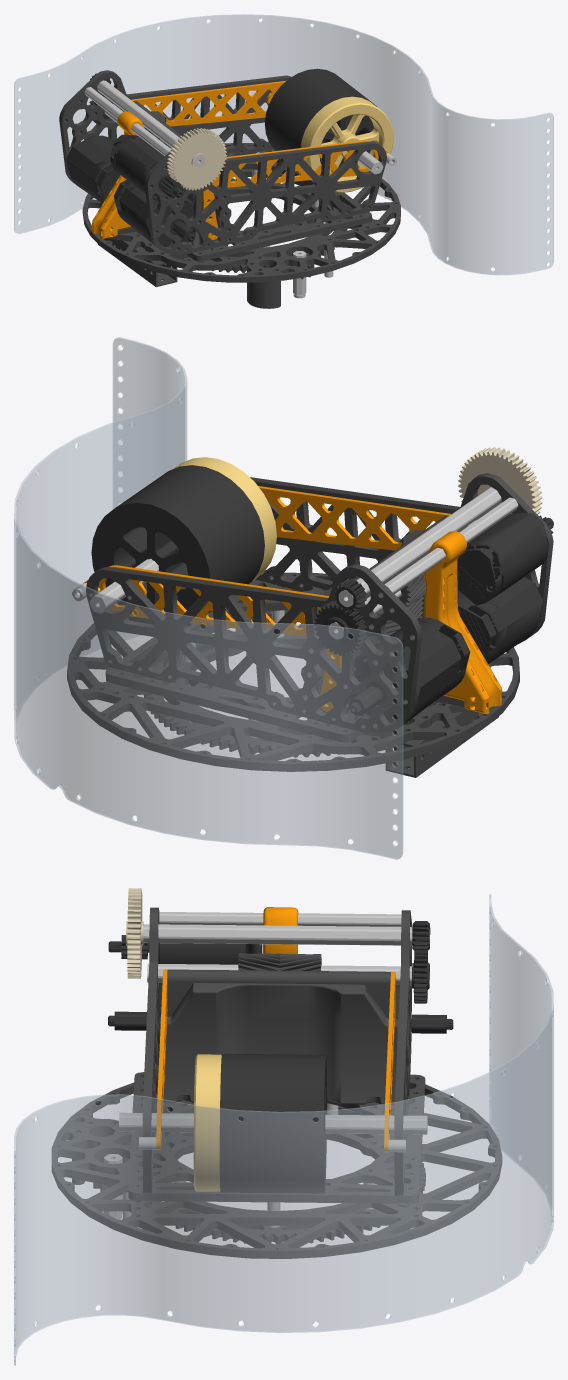
Rendered from 3928-turret.glb.
The picture shows the model from 3 angles, top to bottom: view 1: azimuth 30°, elevation 25°; view 2: azimuth 150°, elevation 25°; view 3: azimuth 270°, elevation 25°; orthographic projection. The views are drawn at different scales.
Parts seen in each view (by area): view 1: 26-TW-33, 26-SH-01, 16t Steel Spur Gear (20 DP, 1/2" Rounded Hex Bore), 26-SH-13, 4" Brass Flywheel (1/2" Triangle Bore), 26-SH-07, 50t Aluminum Spur Gear (20 DP, 1/2" Hex Bore); view 2: 26-TW-33, 26-SH-01, 16t Steel Spur Gear (20 DP, 1/2" Rounded Hex Bore), 26-SH-13, 26-SH-07, 50t Aluminum Spur Gear (20 DP, 1/2" Hex Bore), 4" Brass Flywheel (1/2" Triangle Bore); view 3: 26-TW-33, 26-SH-01, 16t Steel Spur Gear (20 DP, 1/2" Rounded Hex Bore), 26-SH-07, 4" Brass Flywheel (1/2" Triangle Bore), 26-SH-13, 50t Aluminum Spur Gear (20 DP, 1/2" Hex Bore).
Part boxes in pixels (x1,y1,x2,y2): 26-TW-33: (14,14,553,275); 26-SH-01: (59,70,400,308); 16t Steel Spur Gear (20 DP, 1/2" Rounded Hex Bore): (66,68,376,246); 26-SH-13: (92,80,389,239); 4" Brass Flywheel (1/2" Triangle Bore): (301,96,393,192); 26-SH-07: (84,80,396,298); 50t Aluminum Spur Gear (20 DP, 1/2" Hex Bore): (166,128,226,190); 26-TW-33: (14,337,403,859); 26-SH-01: (67,473,553,777); 16t Steel Spur Gear (20 DP, 1/2" Rounded Hex Bore): (91,465,553,723); 26-SH-13: (83,486,501,714); 26-SH-07: (72,487,518,737); 50t Aluminum Spur Gear (20 DP, 1/2" Hex Bore): (458,447,542,519); 4" Brass Flywheel (1/2" Triangle Bore): (173,457,276,580); 26-TW-33: (14,894,553,1365); 26-SH-01: (51,907,502,1258); 16t Steel Spur Gear (20 DP, 1/2" Rounded Hex Bore): (108,921,453,1193); 26-SH-07: (104,912,429,1227); 4" Brass Flywheel (1/2" Triangle Bore): (193,1054,221,1191); 26-SH-13: (156,907,395,1152); 50t Aluminum Spur Gear (20 DP, 1/2" Hex Bore): (126,888,143,978).
Bounding box in the file's own units: 0.4445 × 0.2093 × 0.395.
